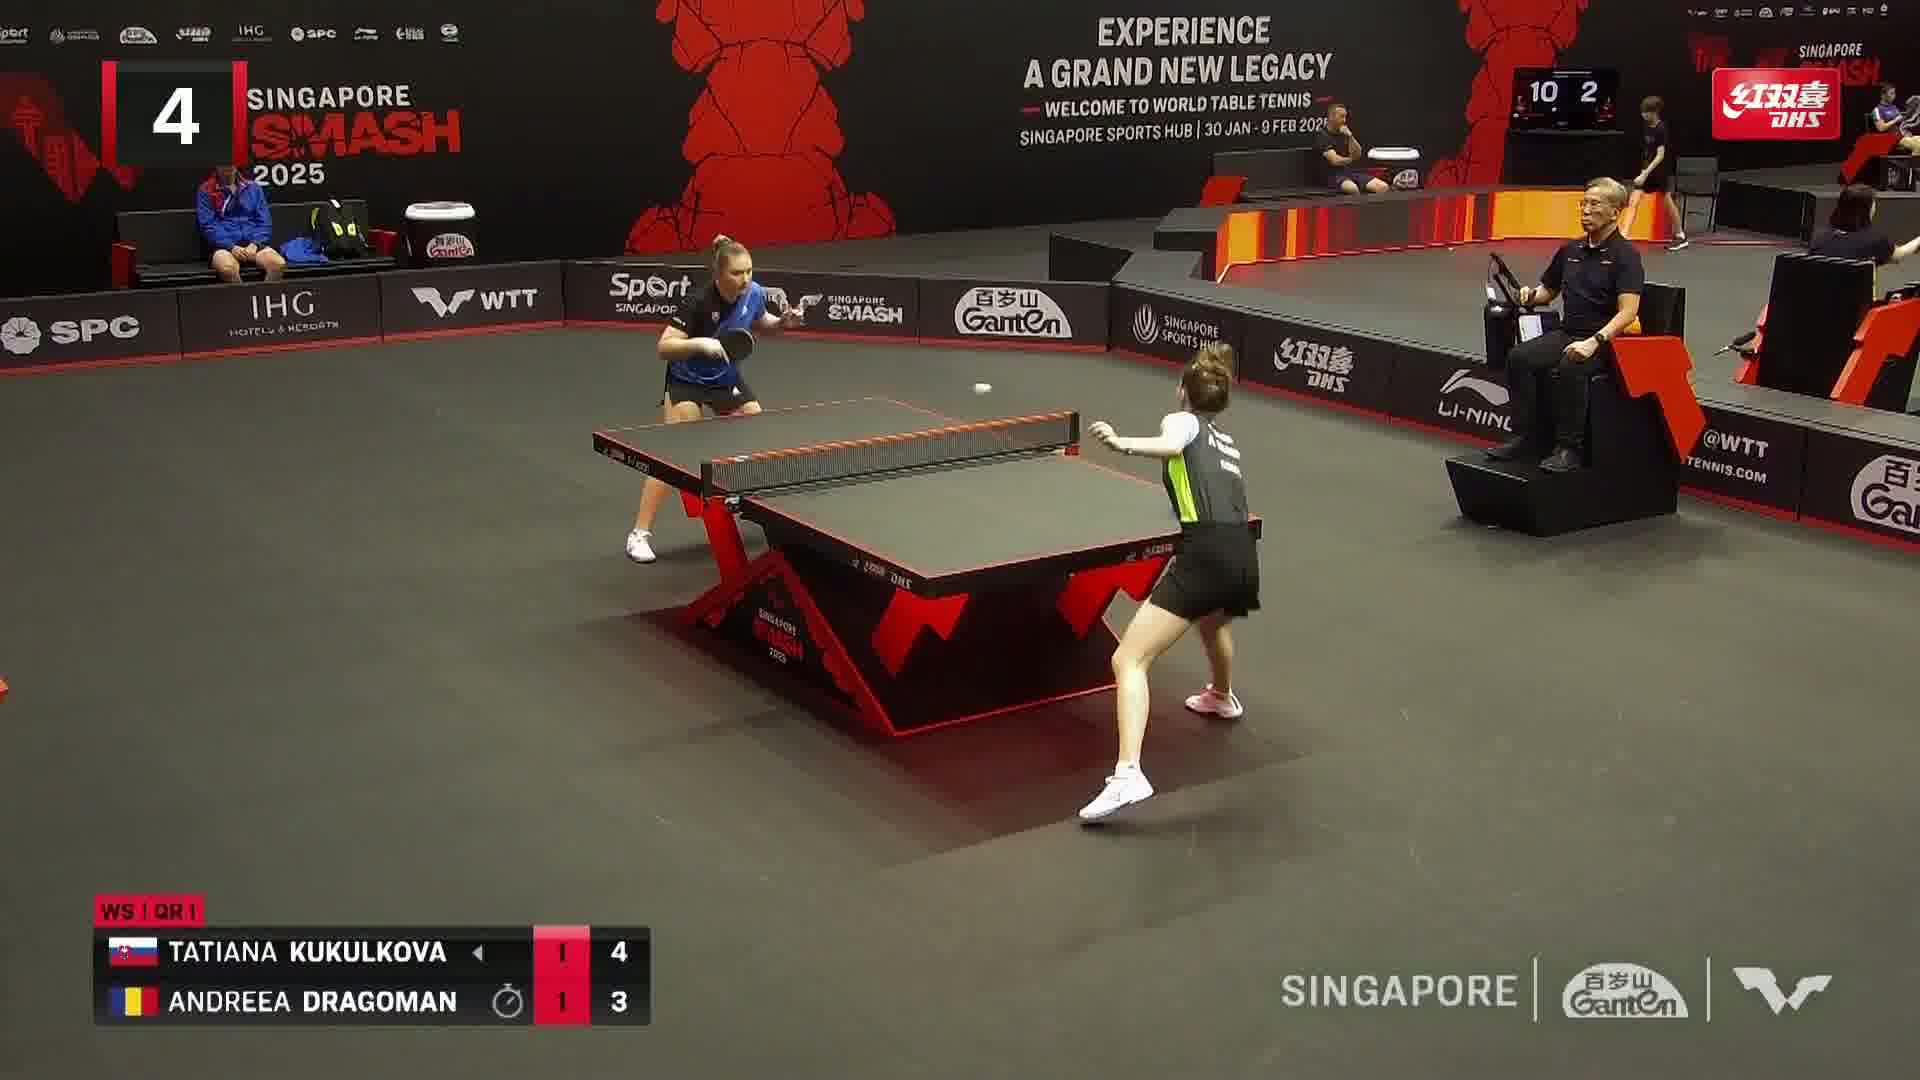table_tennis_ball: (973, 382, 991, 395)
